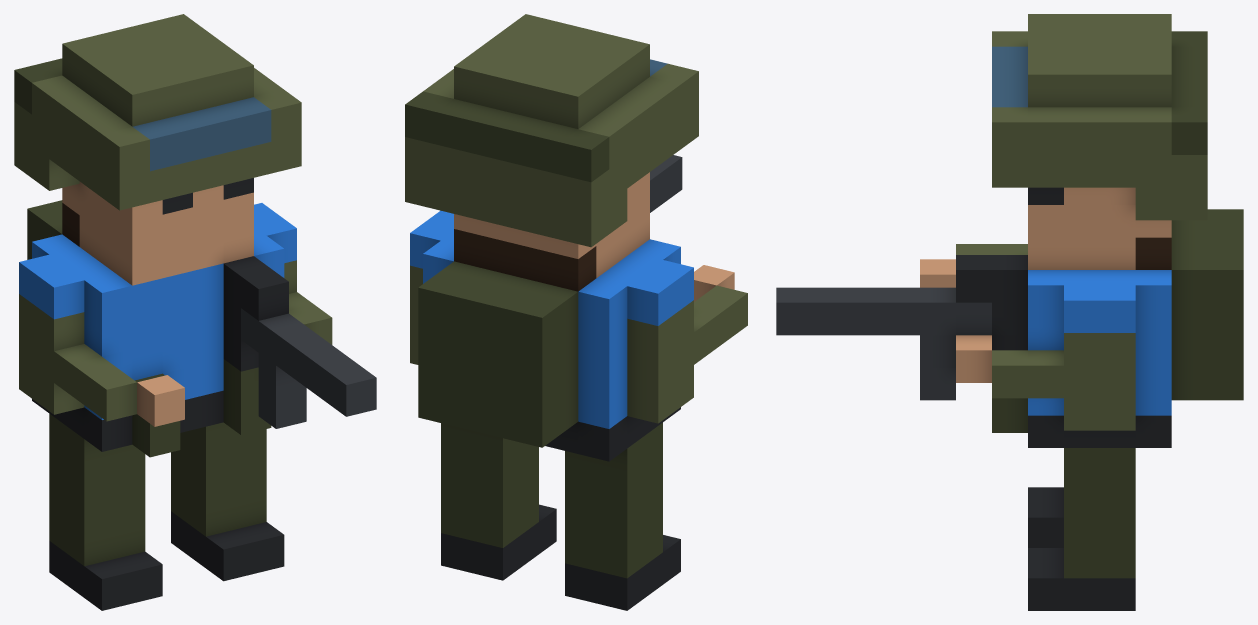
File: cm_rifle_1.glb
The picture shows the model from 3 angles, left to right: view 1: azimuth 30°, elevation 25°; view 2: azimuth 150°, elevation 25°; view 3: azimuth 270°, elevation 25°; orthographic projection. The views are drawn at different scales.
Visible parts, largest first — view 1: cm_rifle_1_body; view 2: cm_rifle_1_body; view 3: cm_rifle_1_body.
Boxes of the visible parts, bbox=[...] form: cm_rifle_1_body: bbox=[14, 14, 376, 610]; cm_rifle_1_body: bbox=[405, 14, 747, 610]; cm_rifle_1_body: bbox=[776, 14, 1243, 610].
Bounding box in the file's own units: 0.5 × 1 × 0.8125.
Materials: 1 (1 with a texture image).
